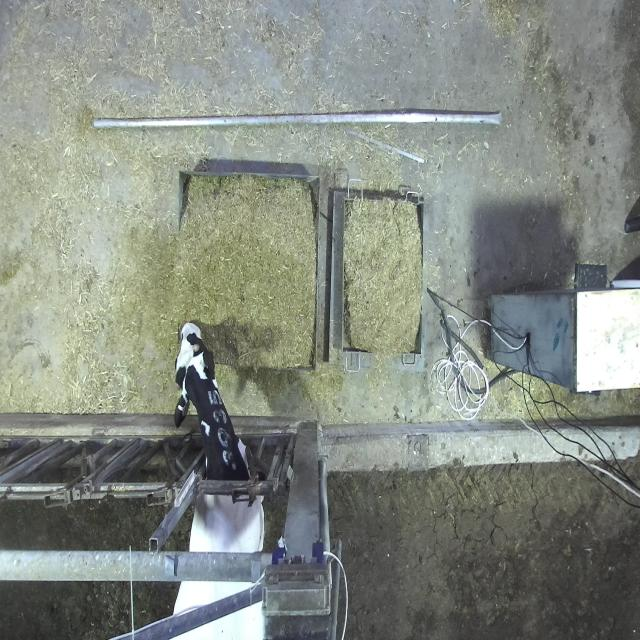cow: (173, 322, 216, 426)
